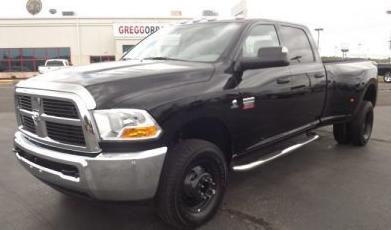front_view: (1, 68, 174, 199)
headlight: (71, 101, 172, 162)
side_glass: (234, 16, 323, 69)
